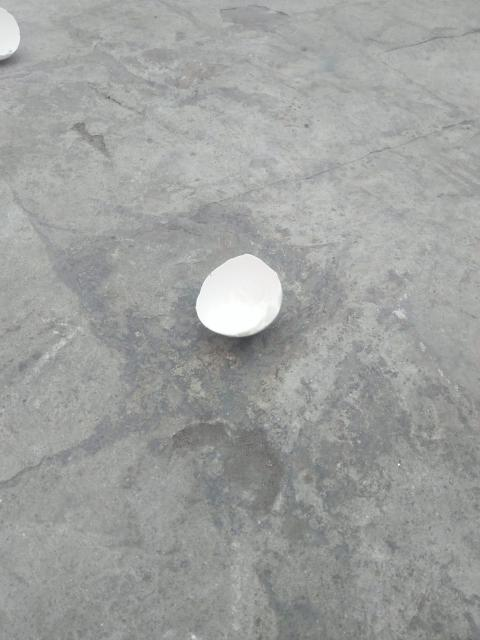Roto: (194, 252, 283, 338), (0, 6, 20, 61)
